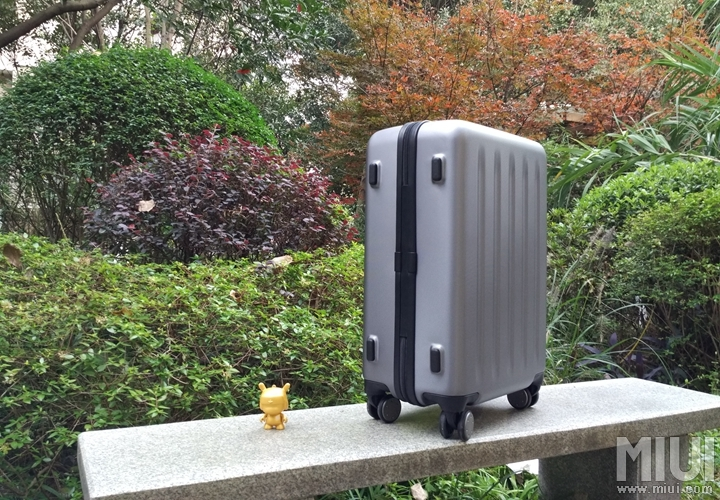suitcase: (365, 120, 549, 441)
